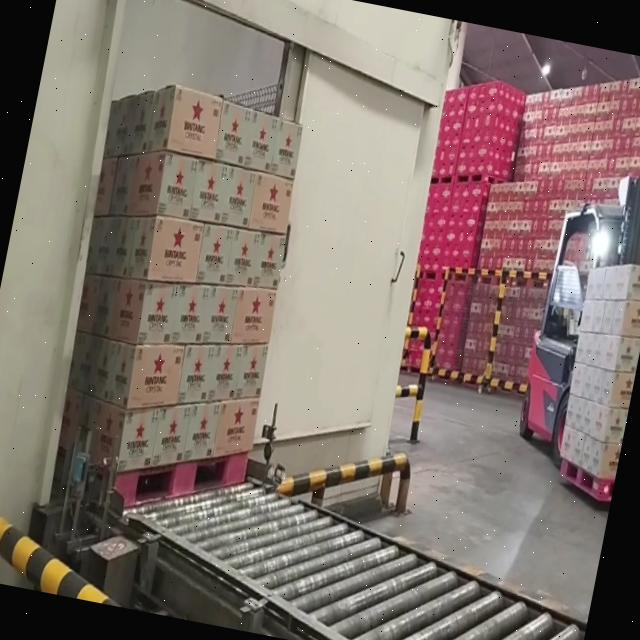pallet: (28, 60, 322, 538), (537, 252, 640, 517)
